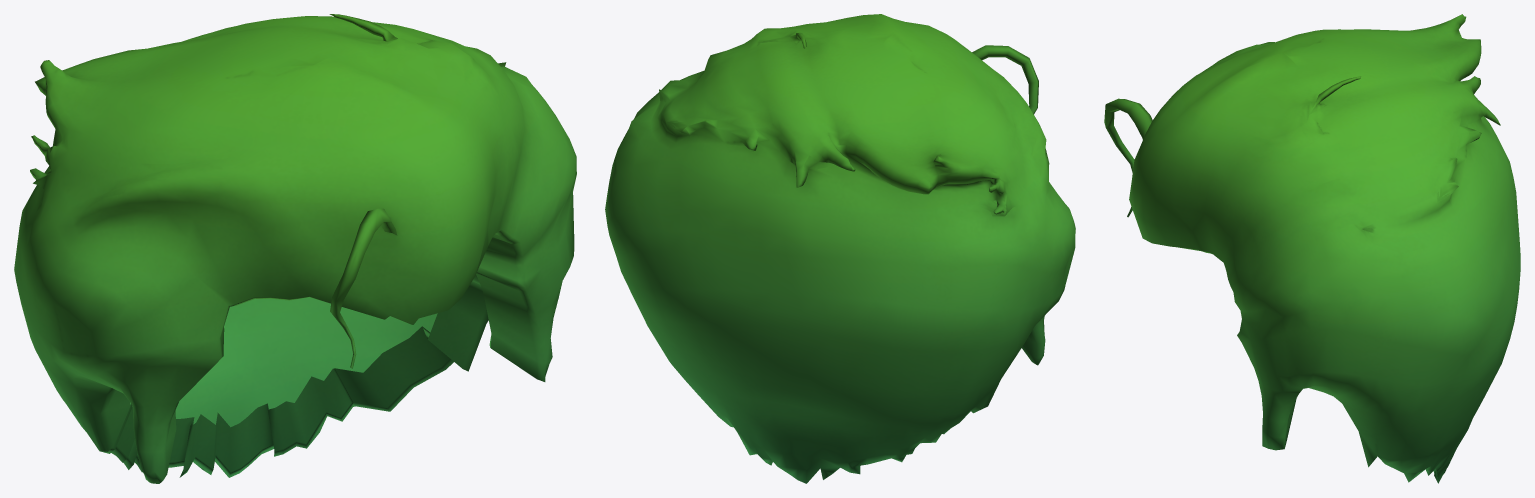
Rendered from importerSkin12_hair.fbx.
The picture shows the model from 3 angles, left to right: view 1: azimuth 30°, elevation 25°; view 2: azimuth 150°, elevation 25°; view 3: azimuth 270°, elevation 25°; orthographic projection. The views are drawn at different scales.
Visible parts, largest first — view 1: importerSkin12_hair_geo; view 2: importerSkin12_hair_geo; view 3: importerSkin12_hair_geo.
Boxes of the visible parts, <box> form: importerSkin12_hair_geo: <box>14,14,576,483</box>; importerSkin12_hair_geo: <box>605,14,1075,483</box>; importerSkin12_hair_geo: <box>1104,14,1520,483</box>.
Size of the model in its own units: 3.59 by 3.19 by 2.93.
Materials: 1 (1 with a texture image).
